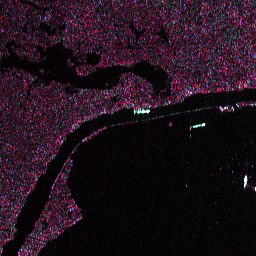ship: (132, 107, 151, 115), (191, 121, 207, 130), (242, 174, 249, 189)
